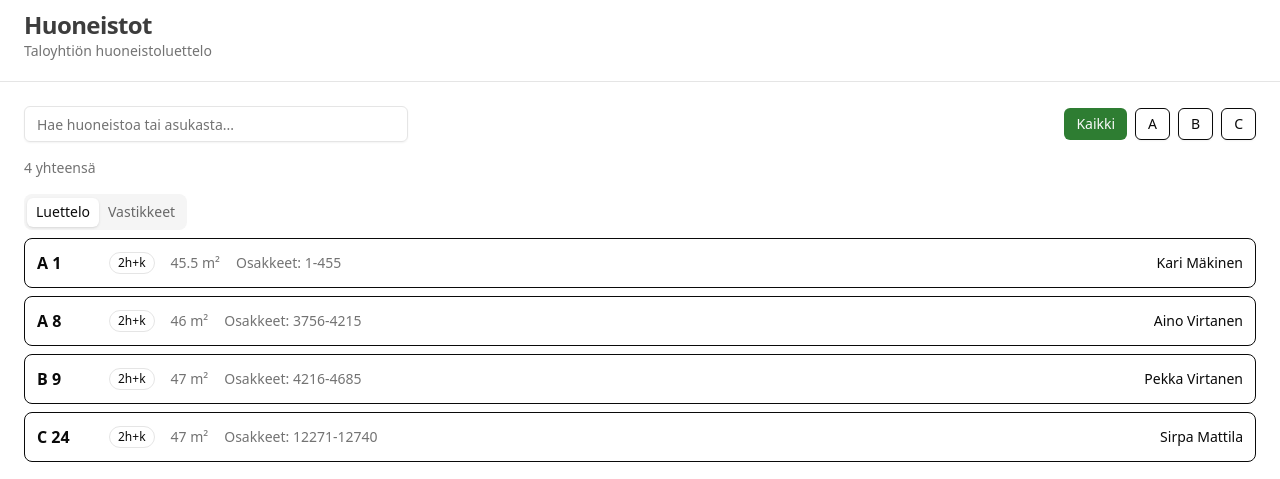
ApartmentsPage › filters by search text
This screenshot has width=1280, height=479.
Expected: the text "A 1" is shown, [37,252,61,274]
Type "Virtanen" into the field with placeholder "Hae huoneistoa tai asukasta...".
click(216, 124); type("Virtanen")  # box [24,106,408,142]
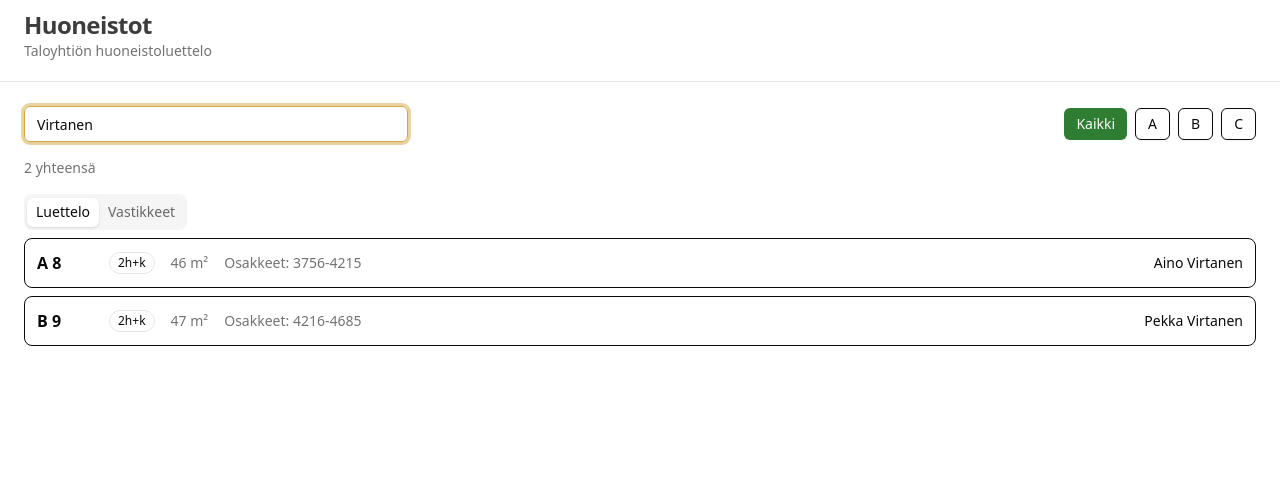
Expected: the text "Aino Virtanen" is shown, [1154,253,1243,273]
Expected: the text "2 yhteensä" is shown, [24,158,96,177]
